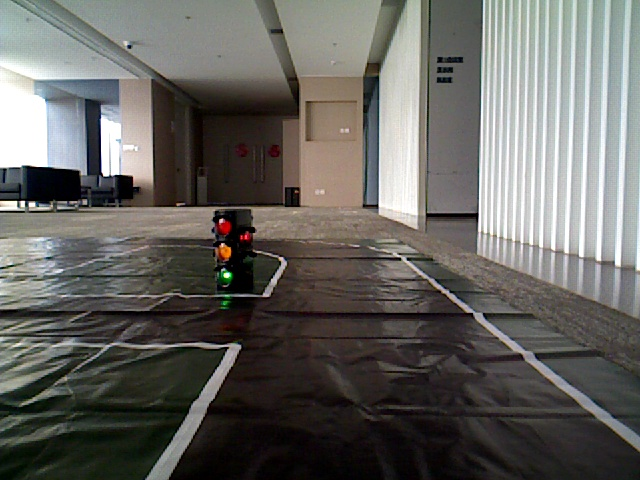green: (214, 207, 240, 283)
